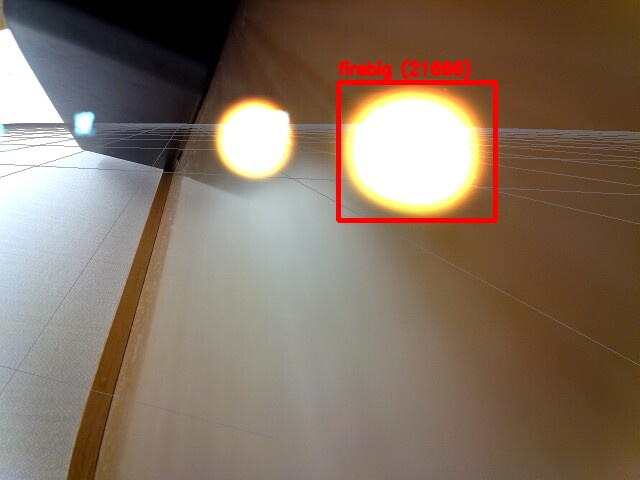firebig: (338, 82, 495, 220)
